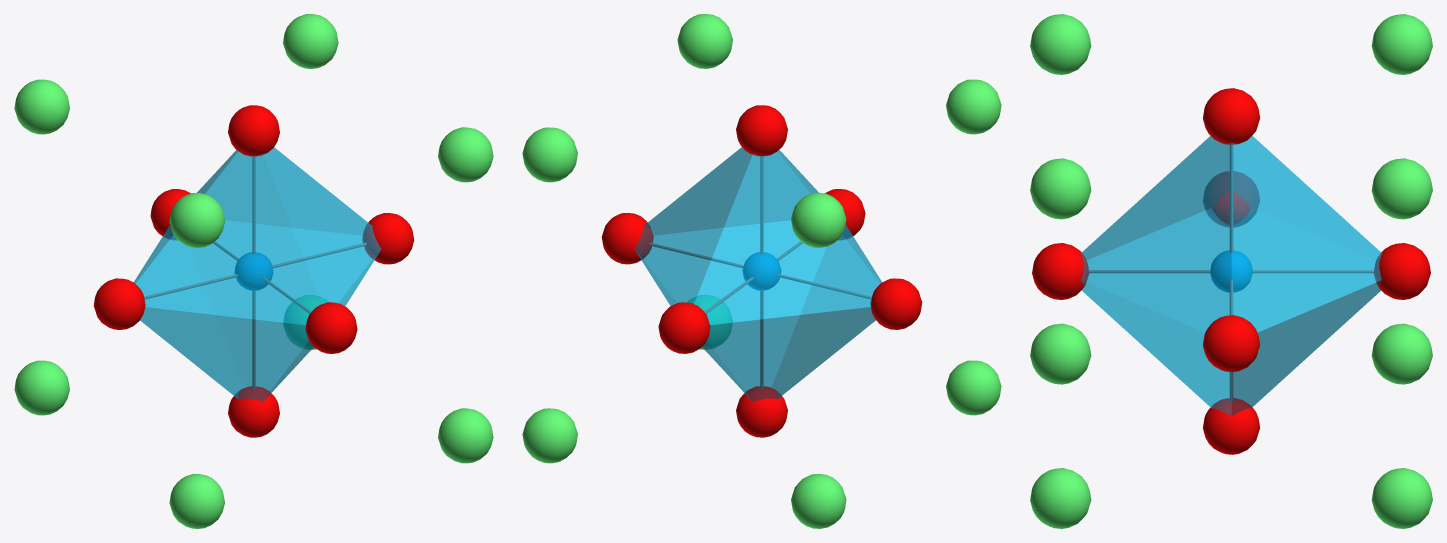
Rendered from BaLiF3.glb.
3 views of the same model, side by side, from view 1: azimuth 30°, elevation 25°; view 2: azimuth 150°, elevation 25°; view 3: azimuth 270°, elevation 25° (orthographic). The views are drawn at different scales.
Visible parts, largest first — view 1: Shape_IndexedFaceSet, atom0_IndexedFaceSet, atom2_IndexedFaceSet, Shape_Cylinder, atom1_IndexedFaceSet; view 2: Shape_IndexedFaceSet, atom0_IndexedFaceSet, atom2_IndexedFaceSet, Shape_Cylinder, atom1_IndexedFaceSet; view 3: Shape_IndexedFaceSet, atom0_IndexedFaceSet, atom2_IndexedFaceSet, Shape_Cylinder, atom1_IndexedFaceSet.
Part boxes in pixels (box(x1,y1,x2,y2)): Shape_IndexedFaceSet: box(133, 147, 381, 401); atom0_IndexedFaceSet: box(14, 14, 493, 528); atom2_IndexedFaceSet: box(93, 105, 414, 437); Shape_Cylinder: box(144, 156, 366, 389); atom1_IndexedFaceSet: box(234, 252, 273, 290); Shape_IndexedFaceSet: box(634, 147, 882, 401); atom0_IndexedFaceSet: box(522, 14, 1001, 528); atom2_IndexedFaceSet: box(601, 105, 922, 437); Shape_Cylinder: box(649, 156, 871, 389); atom1_IndexedFaceSet: box(742, 252, 781, 290); Shape_IndexedFaceSet: box(1081, 135, 1381, 416); atom0_IndexedFaceSet: box(1030, 14, 1432, 528); atom2_IndexedFaceSet: box(1032, 88, 1430, 454); Shape_Cylinder: box(1088, 145, 1373, 401); atom1_IndexedFaceSet: box(1210, 250, 1252, 292).
Size of the model in its own units: 4.71 by 4.7 by 4.71.
